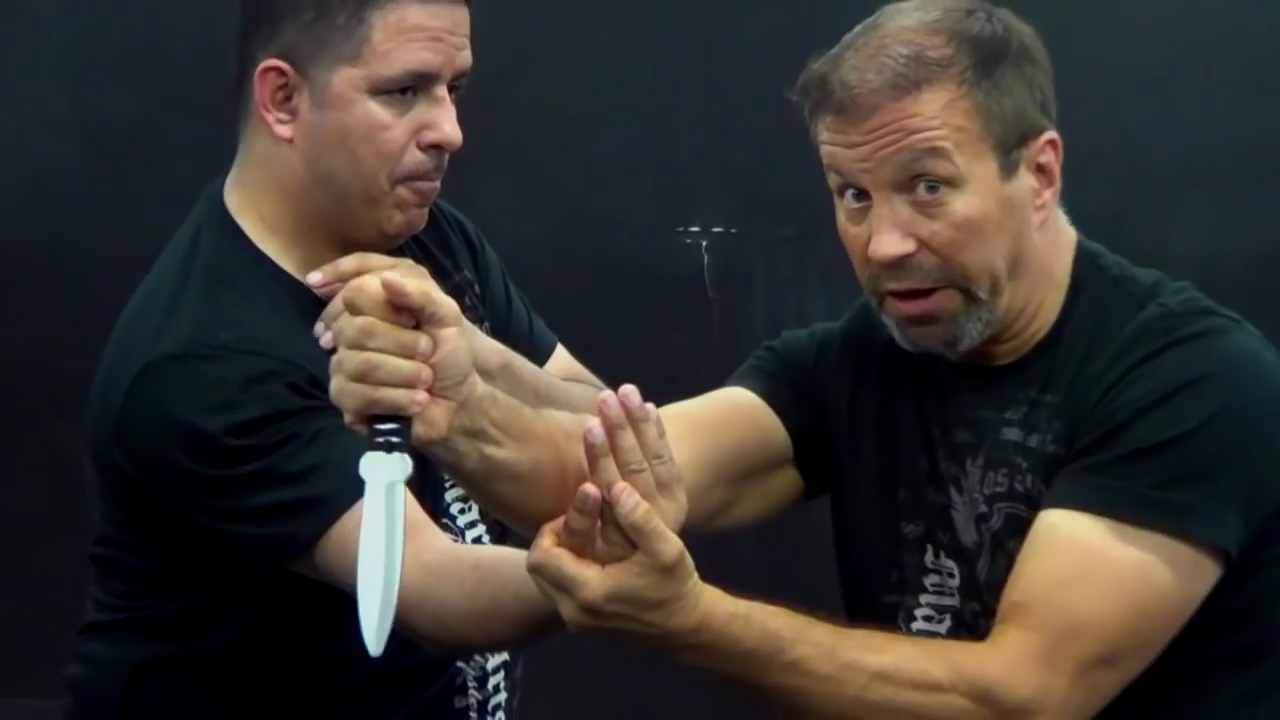knife: (325, 265, 454, 669)
